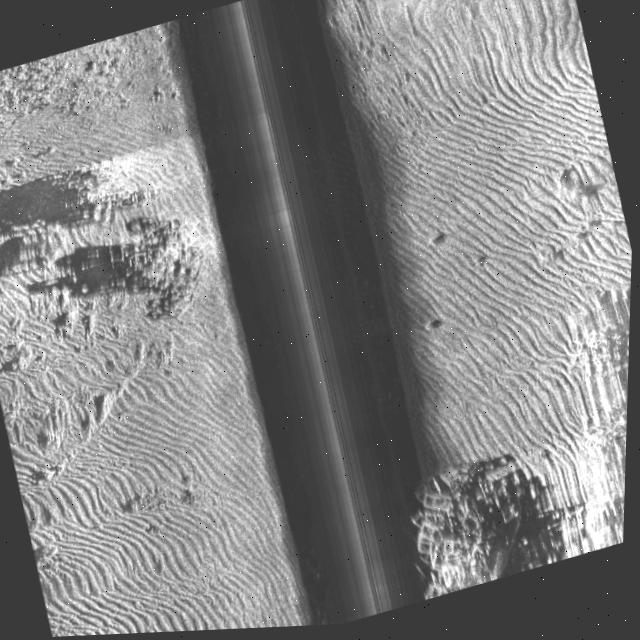artificial reef: (398, 470, 514, 606)
